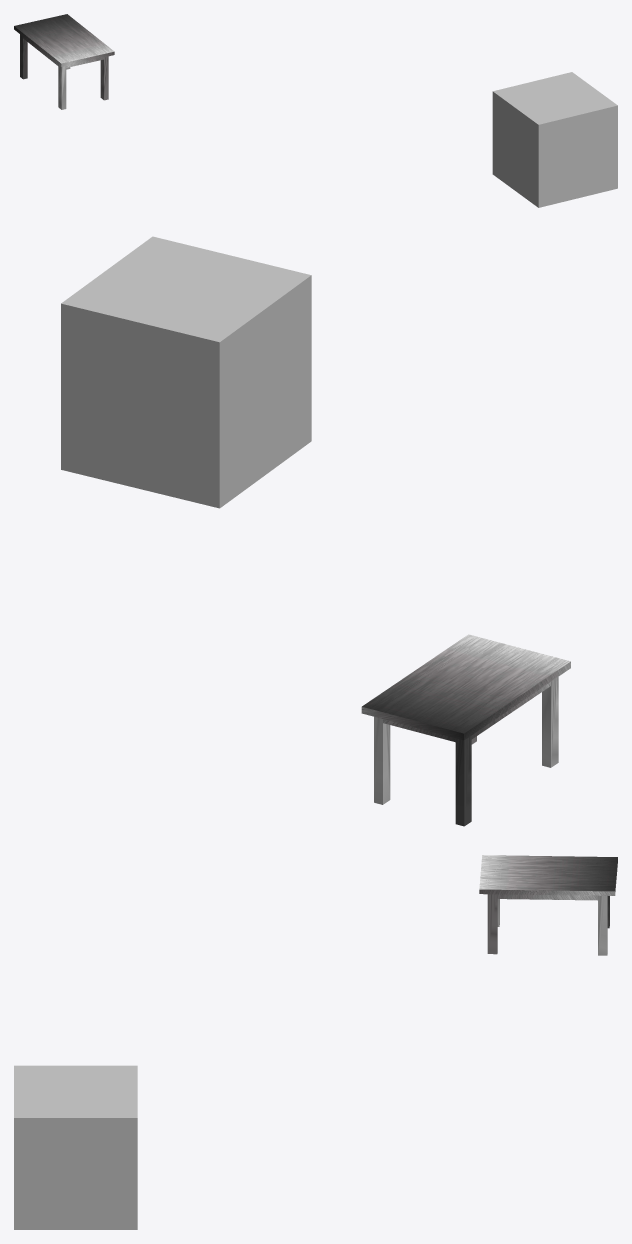
The model's file is tablemetal.obj.
3 renders of one model, top to bottom at view 1: azimuth 30°, elevation 25°; view 2: azimuth 150°, elevation 25°; view 3: azimuth 270°, elevation 25°, orthographic. The views are drawn at different scales.
Parts seen in each view (by area): view 1: Куб_Куб.001, Cube.029_Cube.000; view 2: Куб_Куб.001, Cube.029_Cube.000; view 3: Куб_Куб.001, Cube.029_Cube.000.
Part boxes in pixels (x1=…): Куб_Куб.001: x1=492, y1=72, x2=617, y2=207; Cube.029_Cube.000: x1=14, y1=14, x2=114, y2=109; Куб_Куб.001: x1=61, y1=236, x2=311, y2=508; Cube.029_Cube.000: x1=361, y1=634, x2=570, y2=826; Куб_Куб.001: x1=14, y1=1065, x2=137, y2=1229; Cube.029_Cube.000: x1=479, y1=855, x2=617, y2=955.
Bounding box in the file's own units: 8.04 × 1.83 × 8.16.
Materials: 2 (1 with a texture image).
